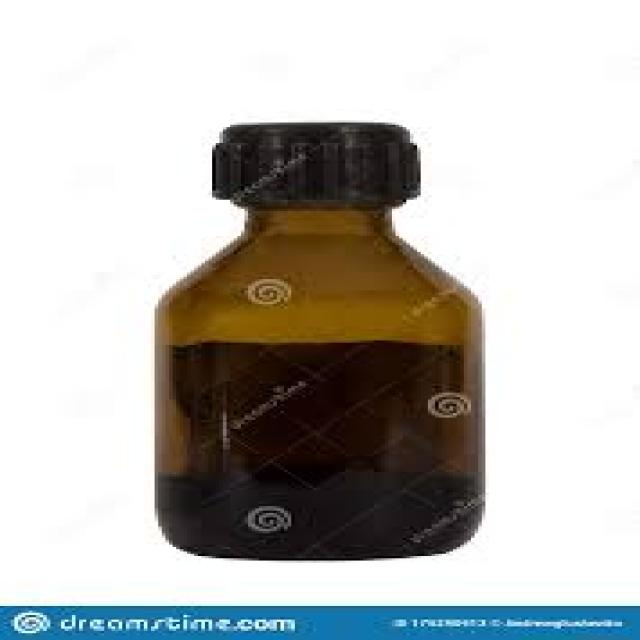glass: (148, 204, 479, 561)
plastic: (209, 118, 417, 207)
